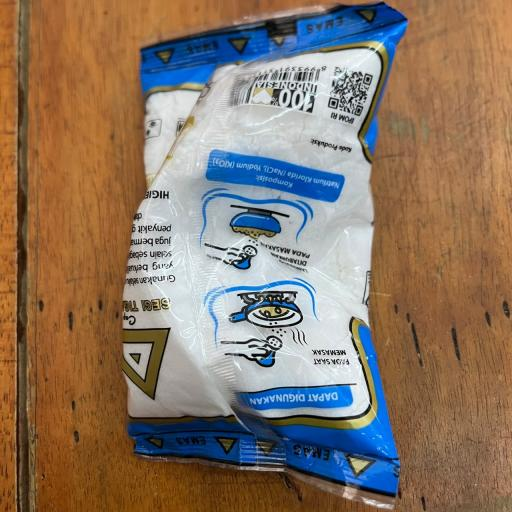Garam Segitiga Emas: (122, 5, 402, 509)
